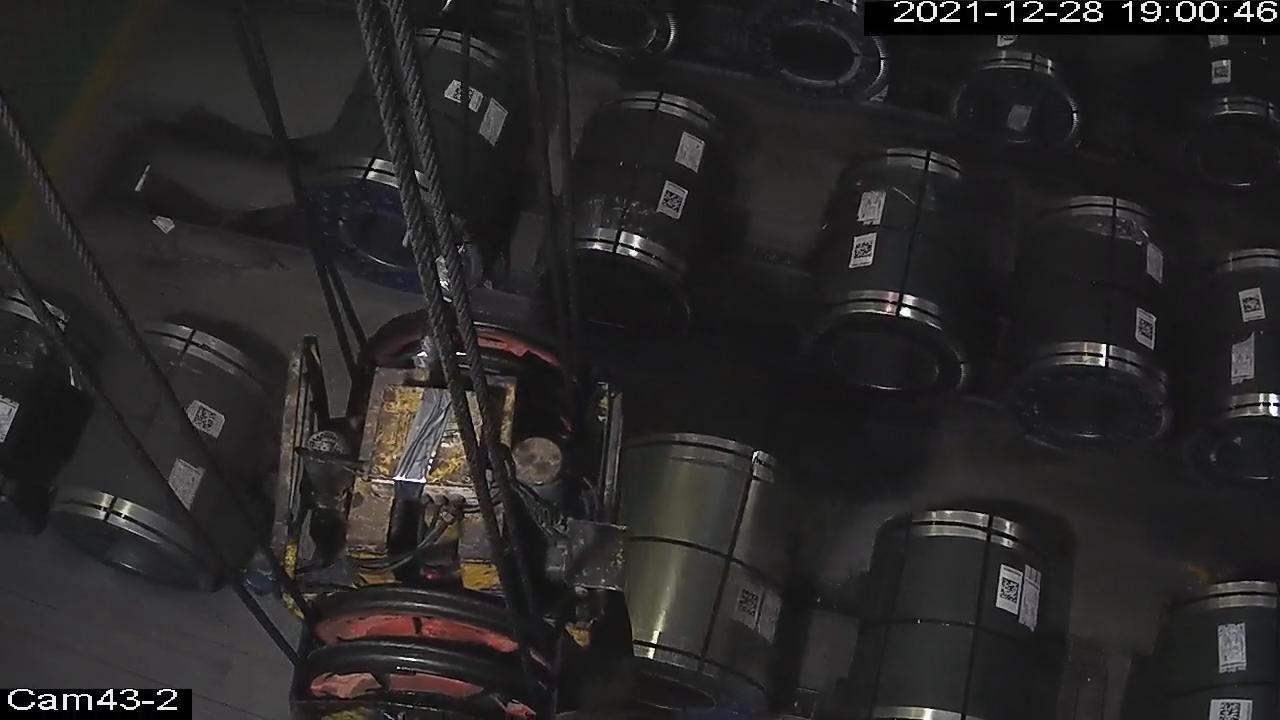data matrix: (189, 403, 221, 435), (733, 587, 765, 618), (658, 188, 689, 216), (998, 576, 1023, 605), (1238, 293, 1265, 316), (1136, 315, 1157, 344), (1216, 699, 1245, 720), (852, 240, 877, 263), (1212, 63, 1234, 82)
